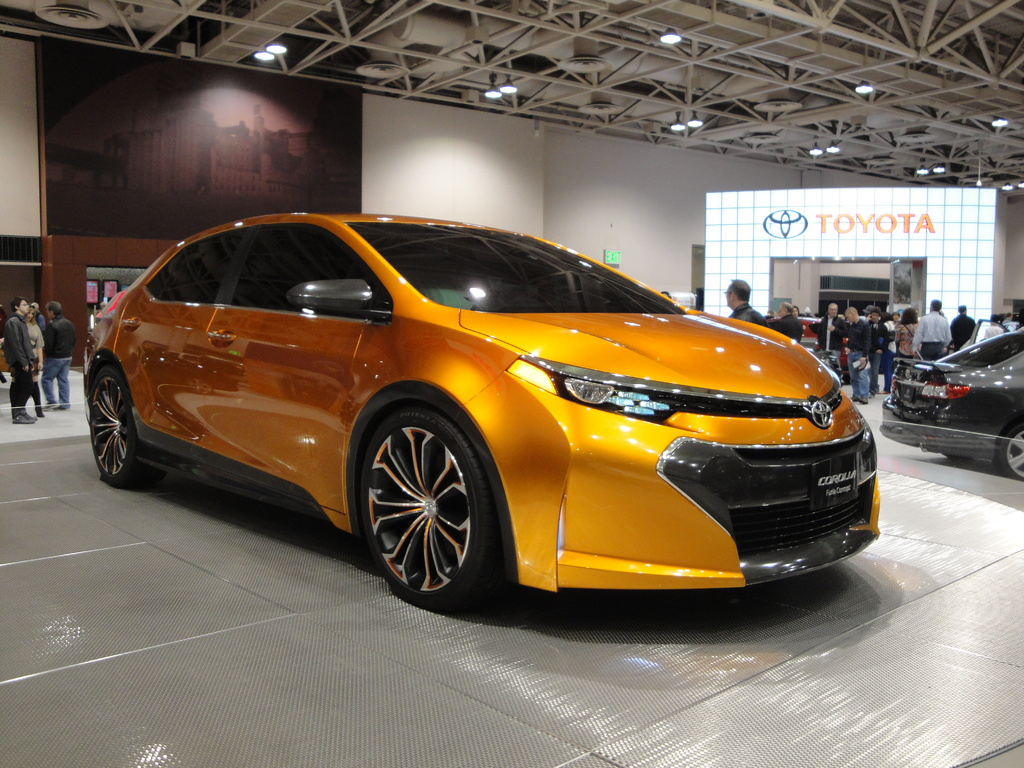car: (75, 191, 910, 637)
